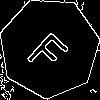F: (24, 23, 77, 77)
